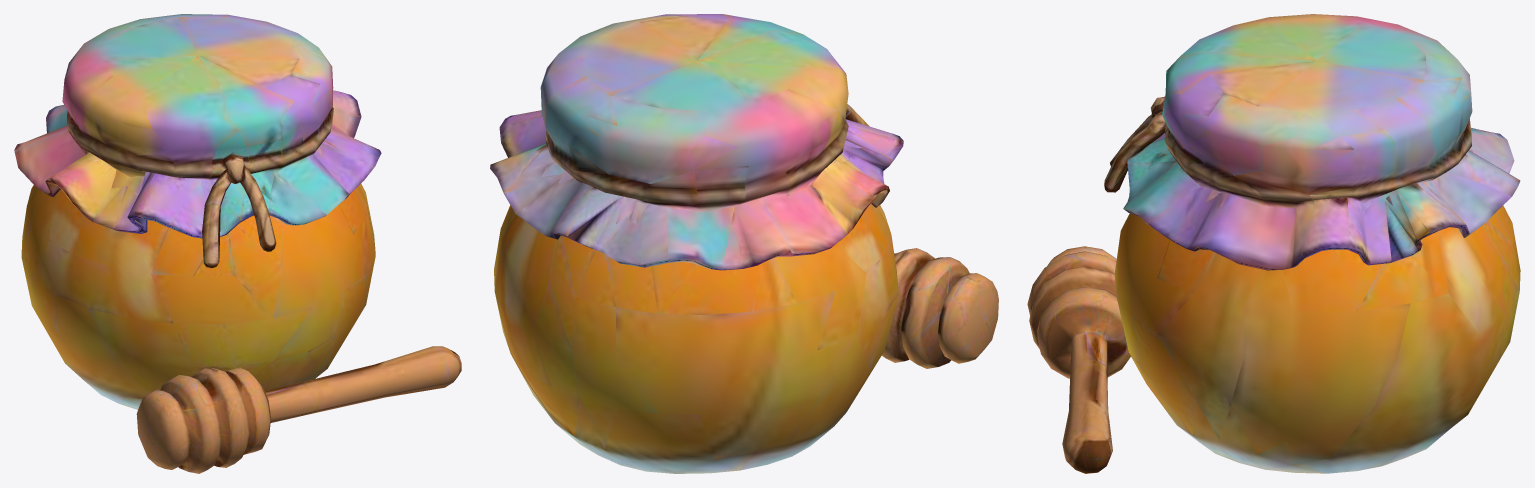
The model's file is item-honey.glb.
The picture shows the model from 3 angles, left to right: view 1: azimuth 30°, elevation 25°; view 2: azimuth 150°, elevation 25°; view 3: azimuth 270°, elevation 25°; orthographic projection. The views are drawn at different scales.
Bounding box in the file's own units: 0.8062 × 0.7705 × 0.9595.
1 material, 1 textured.
